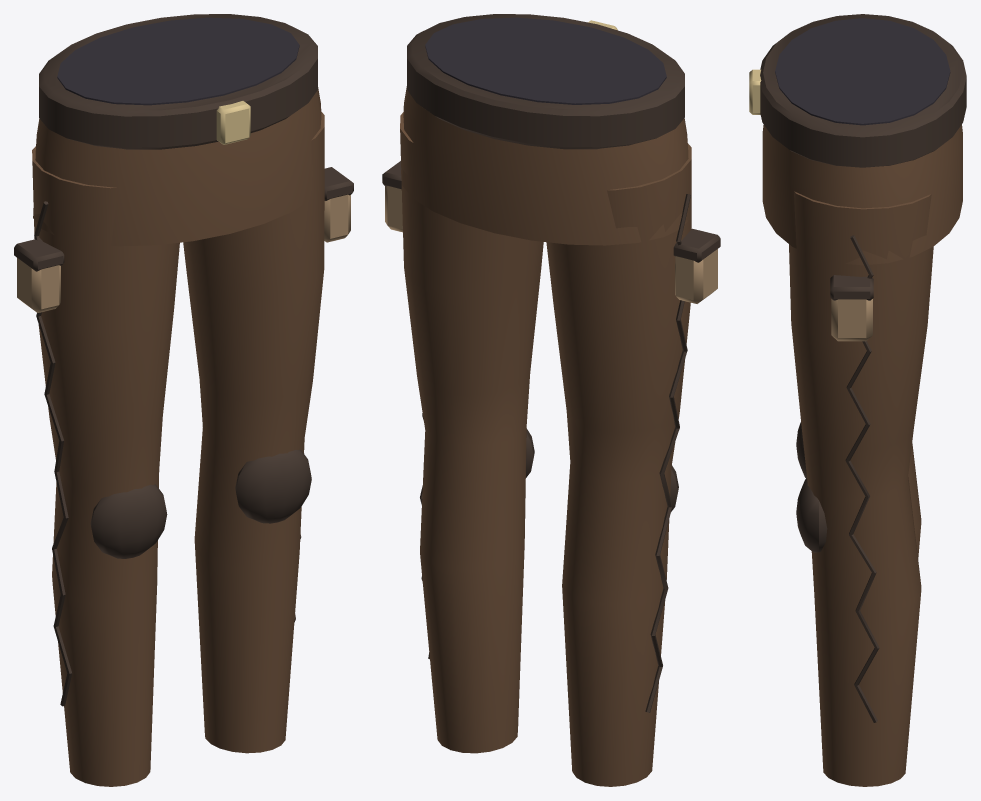
The model's file is trackers_breeches.glb.
The picture shows the model from 3 angles, left to right: view 1: azimuth 30°, elevation 25°; view 2: azimuth 150°, elevation 25°; view 3: azimuth 270°, elevation 25°; orthographic projection. The views are drawn at different scales.
Parts seen in each view (by area): view 1: trackers_breeches; view 2: trackers_breeches; view 3: trackers_breeches.
Part boxes in pixels (box(x1,y1,x2,y2)): trackers_breeches: box(14, 14, 353, 786); trackers_breeches: box(382, 14, 720, 786); trackers_breeches: box(749, 14, 966, 786).
Size of the model in its own units: 0.3418 by 0.7066 by 0.2084.
